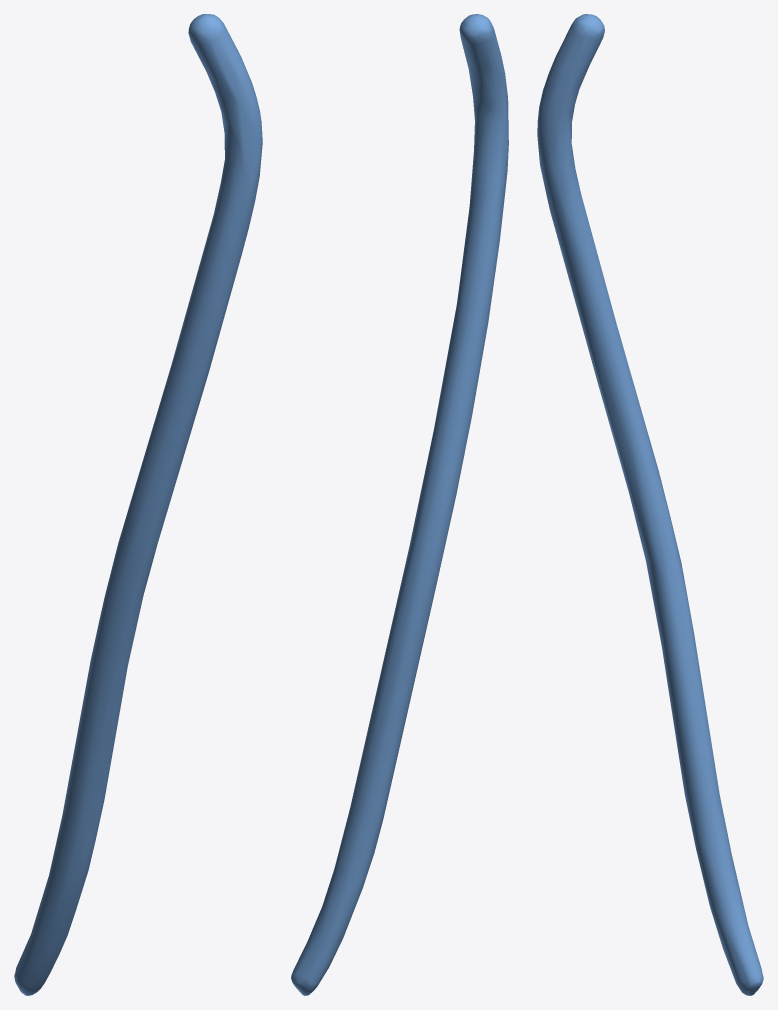
The picture shows the model from 3 angles, left to right: view 1: azimuth 90°, elevation 25°; view 2: azimuth 150°, elevation 25°; view 3: azimuth 270°, elevation 25°; orthographic projection. The views are drawn at different scales.
Parts seen in each view (by area): view 1: BP5880_left_femoral_vein; view 2: BP5880_left_femoral_vein; view 3: BP5880_left_femoral_vein.
Boxes of the visible parts, box(x1,y1,x2,y2) form: BP5880_left_femoral_vein: box(14, 14, 262, 995); BP5880_left_femoral_vein: box(291, 14, 508, 995); BP5880_left_femoral_vein: box(537, 14, 763, 995).
Bounding box in the file's own units: 0.0421 × 0.3233 × 0.0709.
